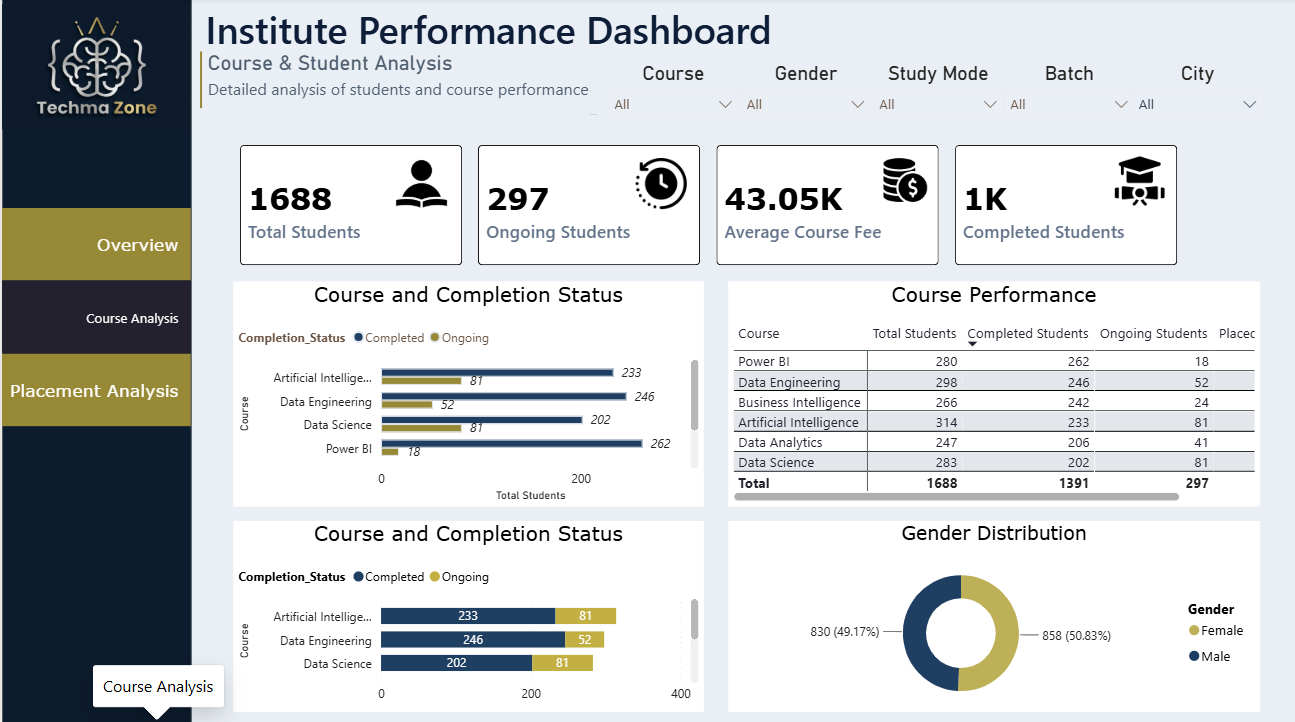

The dashboard page shown, as its layout file describes it:
{"tool":"powerbi","page":{"name":"Course Analysis","canvas":[1280,720],"ordinal":1},"visuals":[{"type":"shape","box":[0,0,188,720],"z":0},{"type":"slicer","title":"Course","fields":{"Values":["Techmazone.Course"]},"box":[591.3,63.6,148.3,74.4],"z":1000},{"type":"cardVisual","fields":{"Data":["Techmazone.Total Students","Techmazone.Ongoing Students","Techmazone.Average Course Fee","Techmazone.Completed Students"]},"box":[218.3,128.7,965.8,148.9],"z":2000},{"type":"textbox","box":[161.9,0,656.4,82.4],"z":3000},{"type":"textbox","title":"Course & Student Analysis","box":[199.1,53.5,396.1,68],"z":4000},{"type":"pageNavigator","box":[0,208.2,188,218.3],"z":5000},{"type":"clusteredBarChart","title":"Course and Completion Status","fields":{"Category":["Techmazone.Course"],"Series":["Techmazone.Completion_Status"],"Y":["Techmazone.Total Students"]},"box":[229.4,280.5,465.5,222.7],"z":6000},{"type":"barChart","title":"Course and Completion Status","fields":{"Category":["Techmazone.Course"],"Series":["Techmazone.Completion_Status"],"Y":["Techmazone.Total Students"]},"box":[229.4,517.6,465.5,189.4],"z":7000},{"type":"donutChart","title":"Gender Distribution","fields":{"Category":["Techmazone.Gender"],"Y":["Techmazone.Total Students"]},"box":[718.6,517.6,526.3,189.4],"z":8000},{"type":"pivotTable","title":"Course Performance","fields":{"Rows":["Techmazone.Course"],"Values":["Techmazone.Total Students","Techmazone.Completed Students","Techmazone.Ongoing Students","Techmazone.Placed Students"]},"box":[718.6,280.5,526.3,222.7],"z":9000},{"type":"image","box":[381.7,144.6,68,81],"z":10000},{"type":"image","box":[602.9,157.6,99.8,52],"z":11000},{"type":"image","box":[873.3,144.6,43.4,72.3],"z":12000},{"type":"image","box":[1101.7,146,49.2,70.8],"z":13000},{"type":"slicer","title":"Gender","fields":{"Values":["Techmazone.Gender"]},"box":[721.4,63.6,148.3,74.4],"z":14000},{"type":"slicer","title":"Study Mode","fields":{"Values":["Techmazone.Study Mode"]},"box":[853,63.6,148.3,74.4],"z":15000},{"type":"slicer","title":"Batch","fields":{"Values":["Techmazone.Batch"]},"box":[983.1,63.6,148.3,74.4],"z":16000},{"type":"slicer","title":"City","fields":{"Values":["Techmazone.City"]},"box":[1110.4,63.6,148.3,74.4],"z":17000},{"type":"image","box":[0,0,186.5,135.9],"z":18000},{"type":"shape","box":[176.4,53.5,41.9,56.4],"z":19000}]}

Visuals, with their boxes on the page's 1280x720 design canvas (x1, y1, x2, y2). These are canvas units, not pixel positions in the 1295x722 screenshot, which may show the page scaled, cropped or inside an application window:
shape: Rect(0, 0, 188, 720)
"Course" slicer: Rect(591, 64, 740, 138)
cardVisual - Techmazone.Total Students x Techmazone.Ongoing Students: Rect(218, 129, 1184, 278)
textbox: Rect(162, 0, 818, 82)
"Course & Student Analysis" textbox: Rect(199, 54, 595, 122)
pageNavigator: Rect(0, 208, 188, 426)
"Course and Completion Status" clusteredBarChart: Rect(229, 280, 695, 503)
"Course and Completion Status" barChart: Rect(229, 518, 695, 707)
"Gender Distribution" donutChart: Rect(719, 518, 1245, 707)
"Course Performance" pivotTable: Rect(719, 280, 1245, 503)
image: Rect(382, 145, 450, 226)
image: Rect(603, 158, 703, 210)
image: Rect(873, 145, 917, 217)
image: Rect(1102, 146, 1151, 217)
"Gender" slicer: Rect(721, 64, 870, 138)
"Study Mode" slicer: Rect(853, 64, 1001, 138)
"Batch" slicer: Rect(983, 64, 1131, 138)
"City" slicer: Rect(1110, 64, 1259, 138)
image: Rect(0, 0, 186, 136)
shape: Rect(176, 54, 218, 110)
